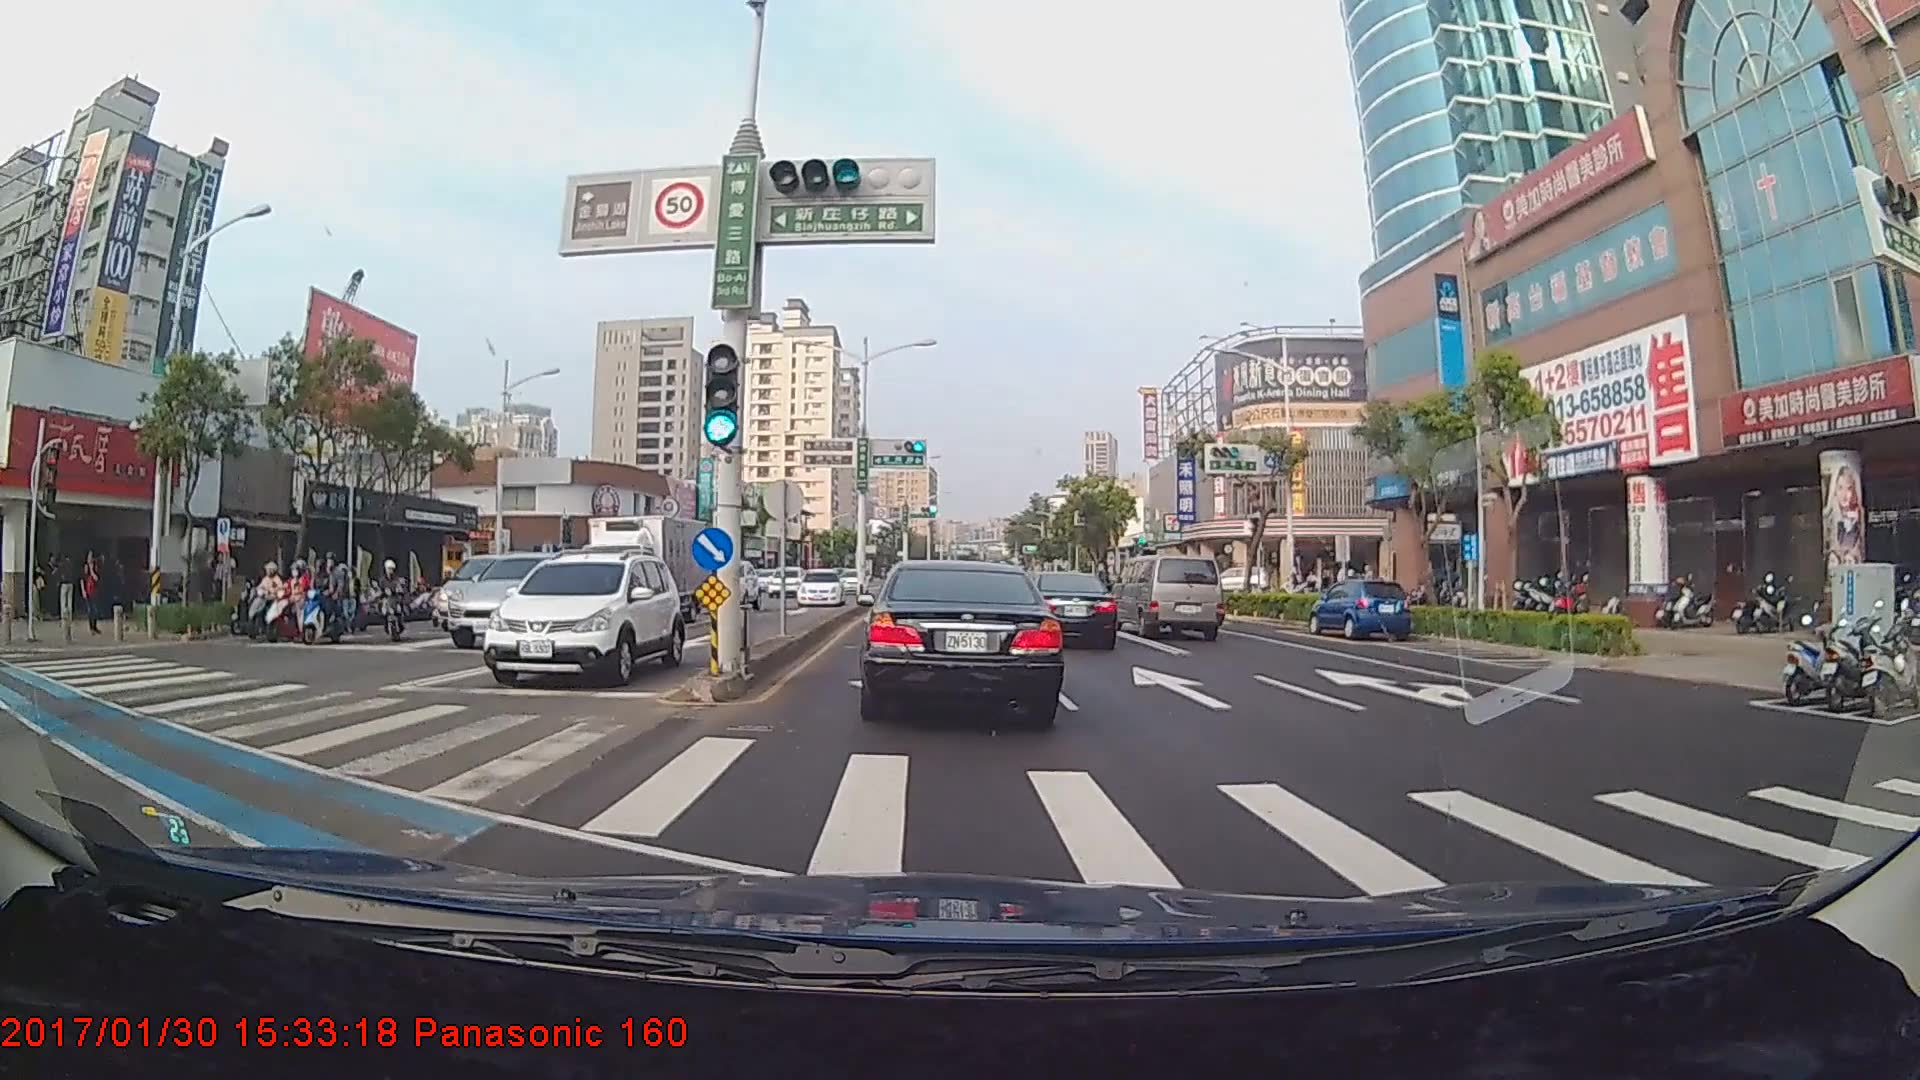pedestrian: (81, 550, 105, 639), (28, 551, 51, 630), (57, 554, 79, 627)
rider: (292, 561, 367, 651), (255, 563, 325, 646), (228, 560, 296, 640), (373, 558, 424, 650)
vehicle: (860, 554, 1060, 722), (485, 552, 682, 685), (565, 512, 708, 646), (446, 551, 584, 651), (1118, 555, 1222, 640), (1015, 571, 1116, 653), (1312, 578, 1411, 641), (695, 559, 759, 610), (792, 575, 841, 612), (767, 571, 800, 601)
